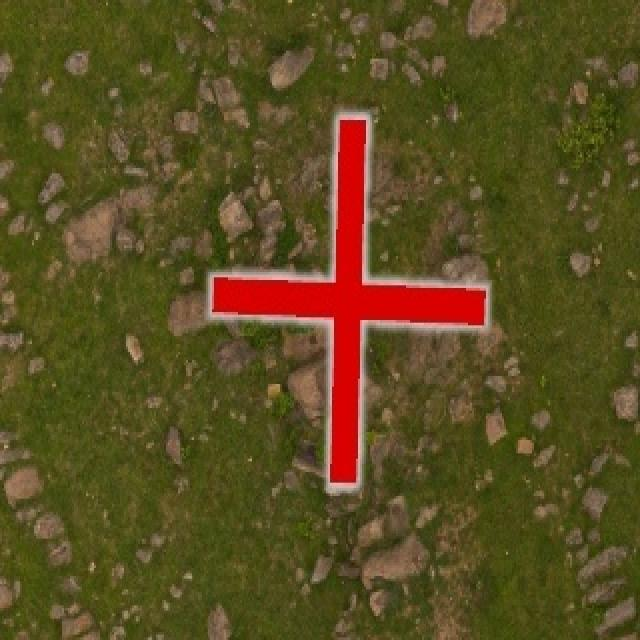x_marker: (211, 116, 485, 484)
